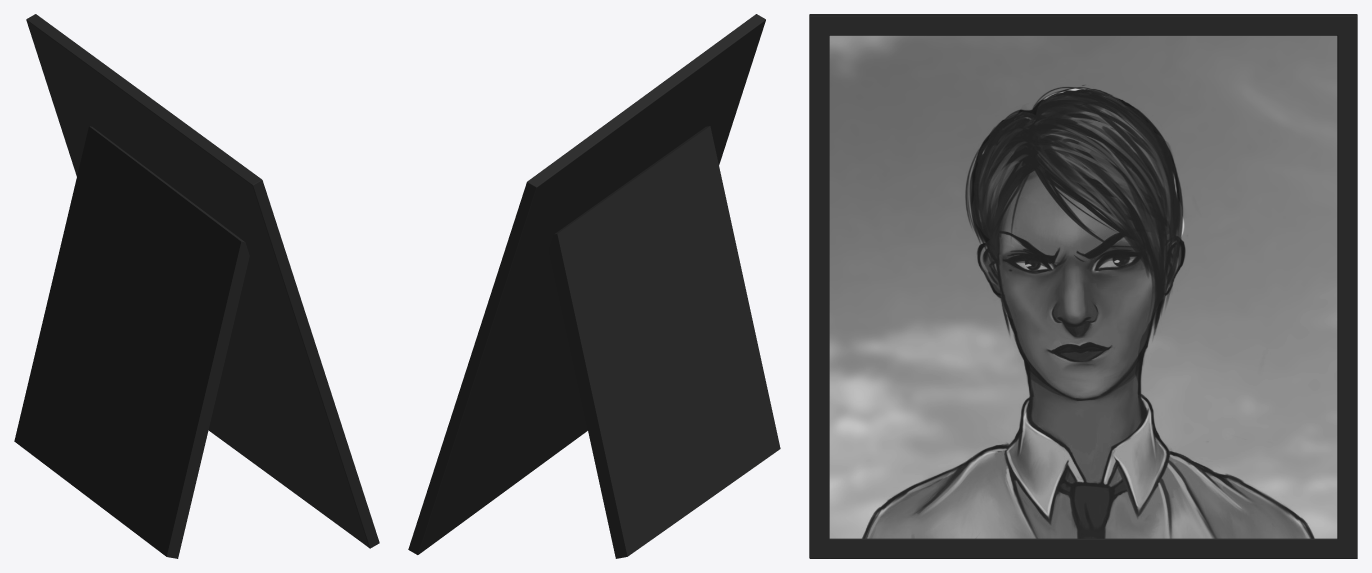
Rendered from Picture FrameNEW.fbx.
The picture shows the model from 3 angles, left to right: view 1: azimuth 30°, elevation 25°; view 2: azimuth 150°, elevation 25°; view 3: azimuth 270°, elevation 25°; orthographic projection. The views are drawn at different scales.
Visible parts, largest first — view 1: Thingy that makes it stand, Frame; view 2: Thingy that makes it stand, Frame; view 3: Actual picture, Frame.
Boxes of the visible parts, left/top/right/bottom form: Thingy that makes it stand: left=14, top=126, right=249, bottom=558; Frame: left=26, top=14, right=379, bottom=548; Thingy that makes it stand: left=549, top=126, right=780, bottom=558; Frame: left=408, top=14, right=765, bottom=554; Actual picture: left=829, top=35, right=1337, bottom=538; Frame: left=809, top=14, right=1357, bottom=558.
Size of the model in its own units: 53.45 by 114 by 118.
